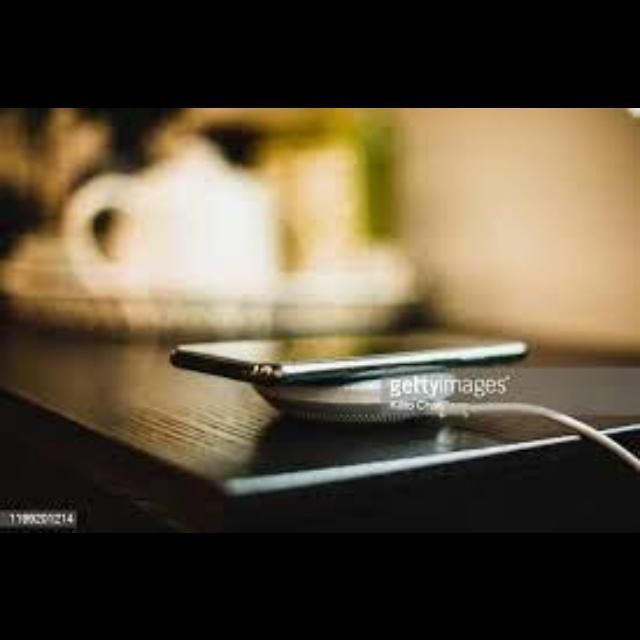Phone: (169, 337, 529, 385)
